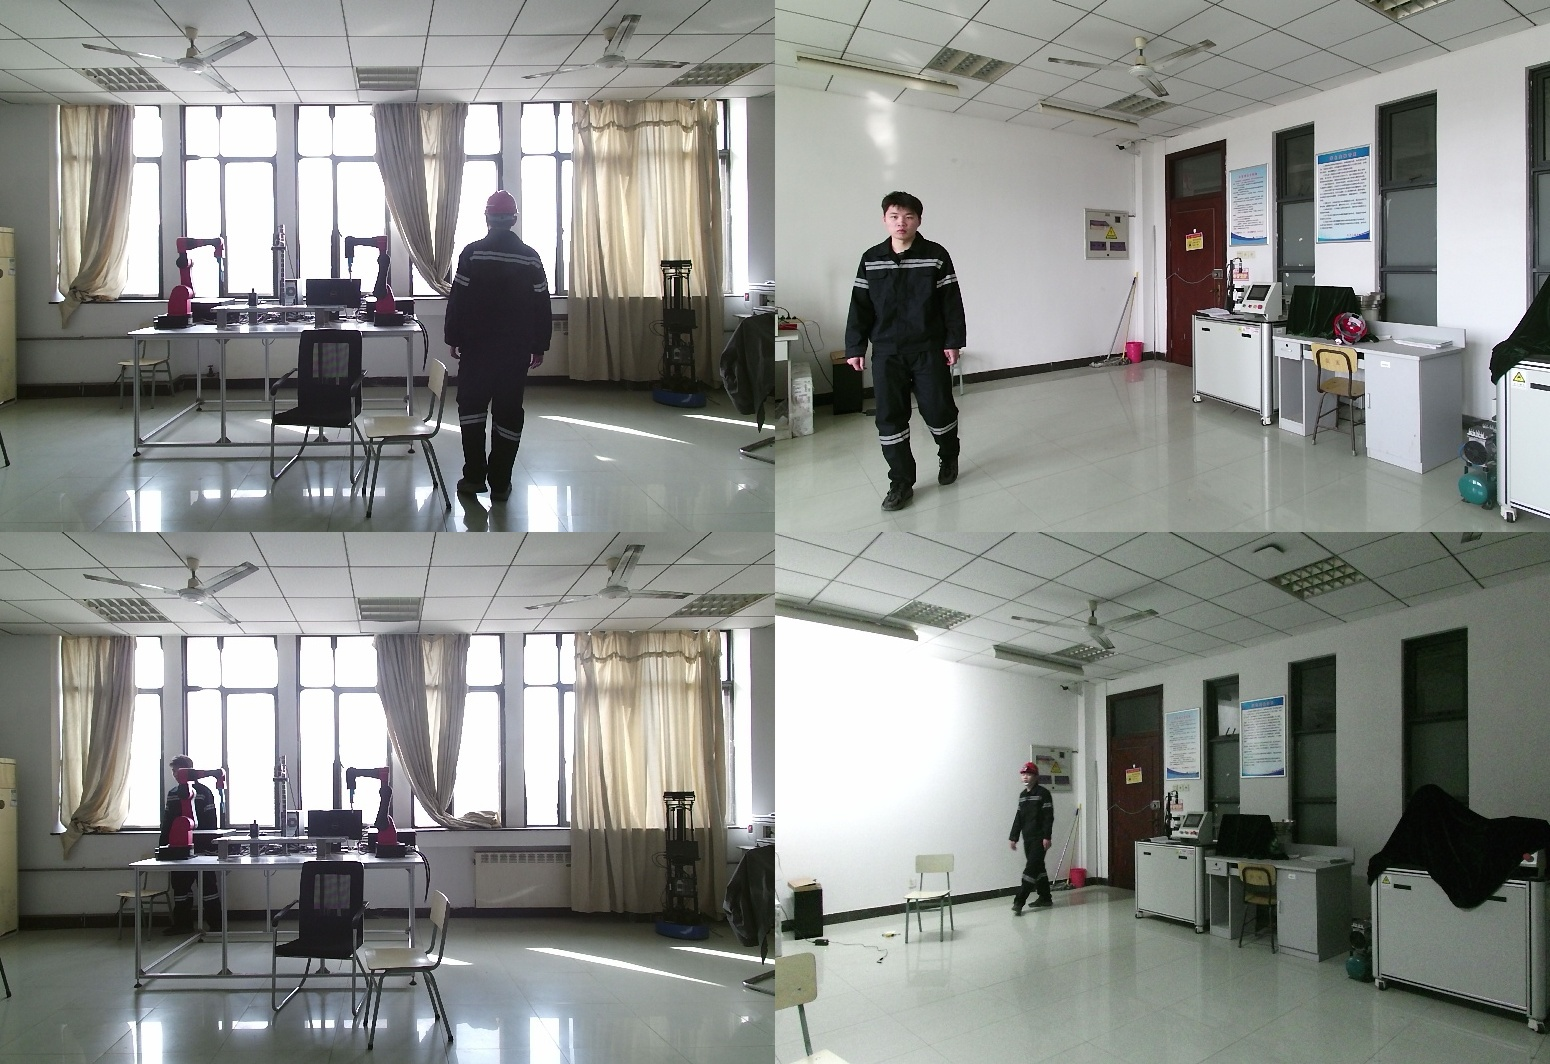person: (845, 194, 969, 512), (448, 190, 556, 532), (157, 755, 226, 943), (1005, 763, 1061, 915)
